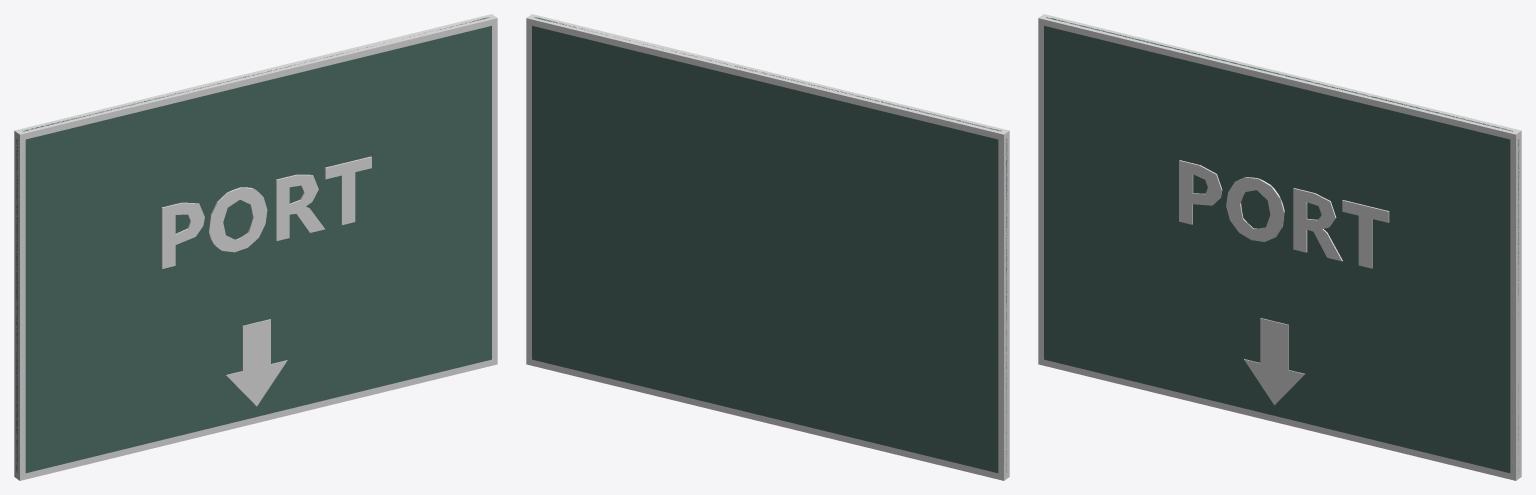
File: SM_FloorProps_RoadSign_42.fbx
3 views of the same model, side by side, from view 1: azimuth 30°, elevation 25°; view 2: azimuth 150°, elevation 25°; view 3: azimuth 330°, elevation 25° (orthographic).
Visible parts, largest first — view 1: SM_FloorProps_RoadSign_42; view 2: SM_FloorProps_RoadSign_42; view 3: SM_FloorProps_RoadSign_42.
Boxes of the visible parts, x1,y1,x2,y2 form: SM_FloorProps_RoadSign_42: [14, 14, 497, 480]; SM_FloorProps_RoadSign_42: [526, 14, 1009, 480]; SM_FloorProps_RoadSign_42: [1038, 14, 1521, 480].
Bounding box in the file's own units: 2.33 × 1.61 × 0.0545.
